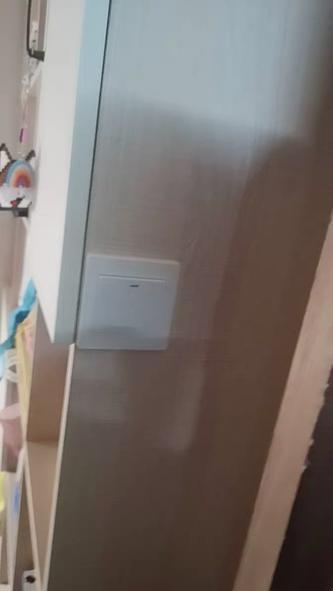switch: (87, 265, 172, 351)
